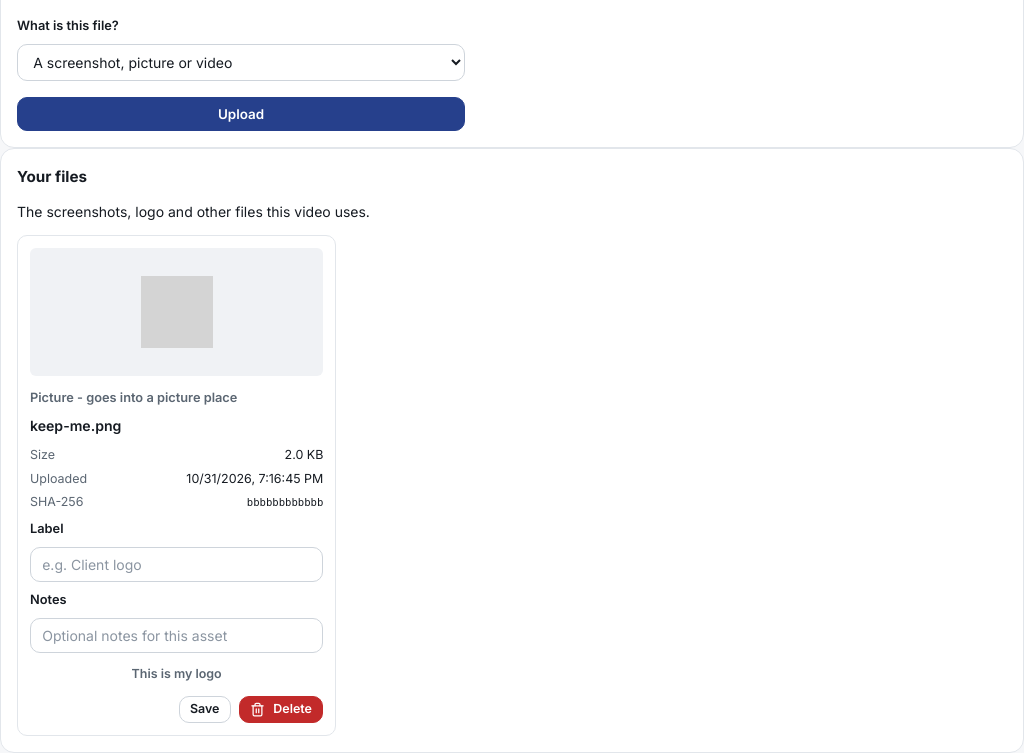
Test case: ProjectAssetsTab › asks for confirmation before deleting, and never deletes on cancel
(page scrolled)
Expected: the text "keep-me.png" is shown, [30,417,121,434]
Click the button "Delete" at x=281, y=710, box [239,696,323,723]
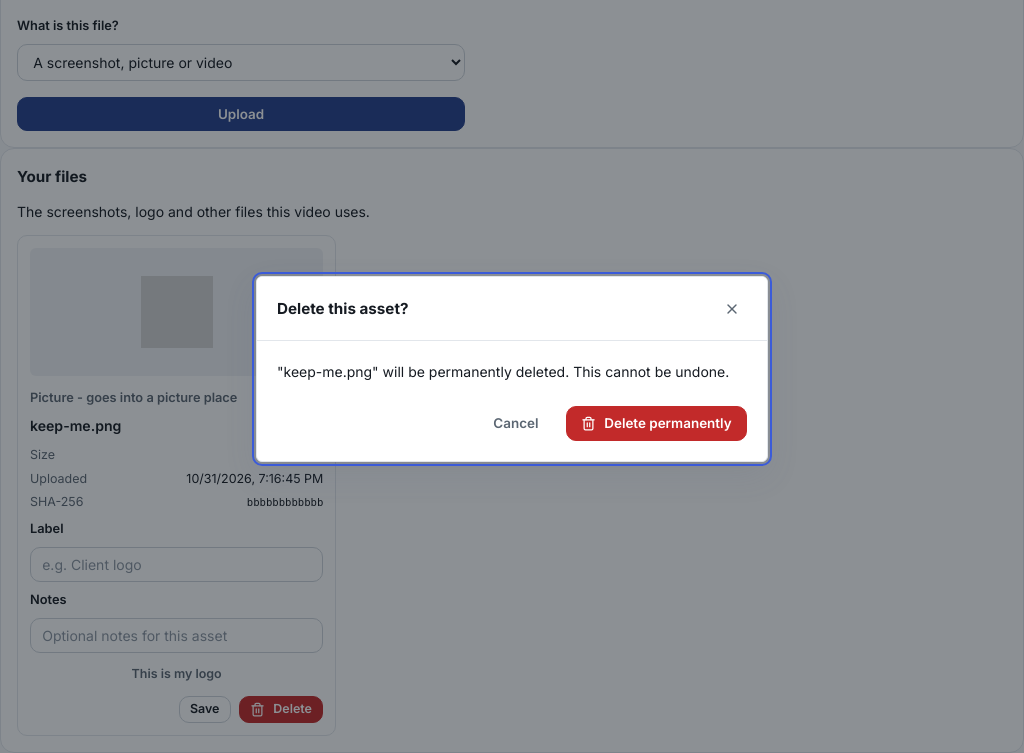
Expected: the text "Delete this asset?" is shown, [277,297,408,320]
Click the button "Cancel" at x=516, y=424, box [478,406,554,441]
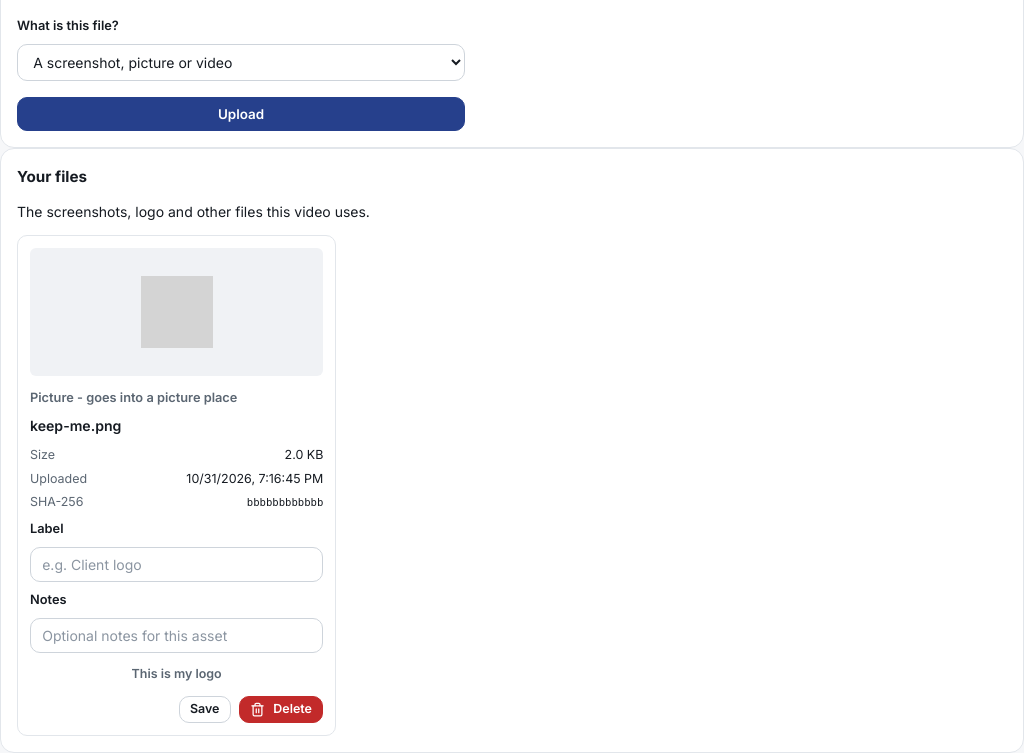
Expected: the text "keep-me.png" is shown, [30,417,121,434]
Expected: the text "Delete this asset?" is gone
